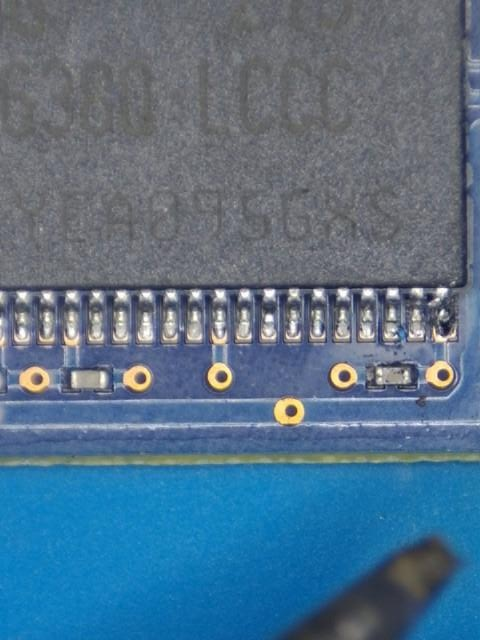pcb_defect: (407, 286, 454, 340)
